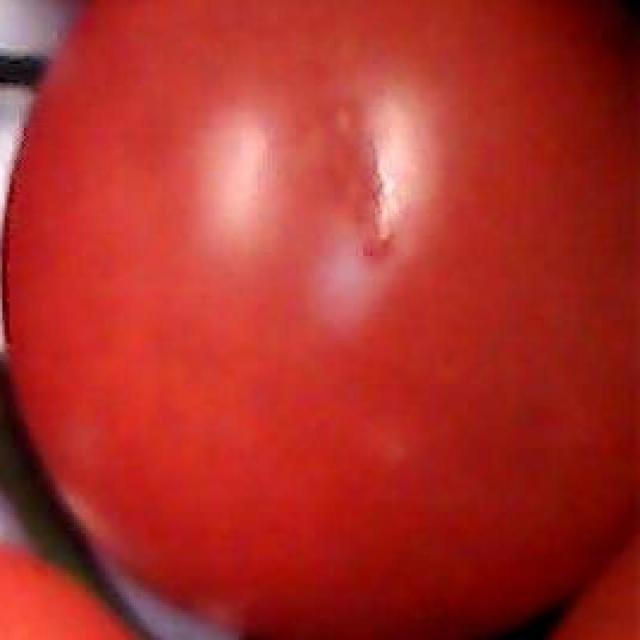Healthy Fruit: (4, 11, 427, 427)
